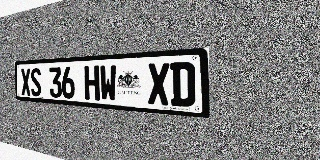3: (49, 67, 62, 98)
6: (61, 66, 75, 99)
D: (170, 62, 195, 107)
H: (84, 65, 100, 101)
S: (30, 68, 41, 97)
W: (100, 65, 117, 102)
X: (147, 63, 170, 106), (21, 68, 31, 96)
